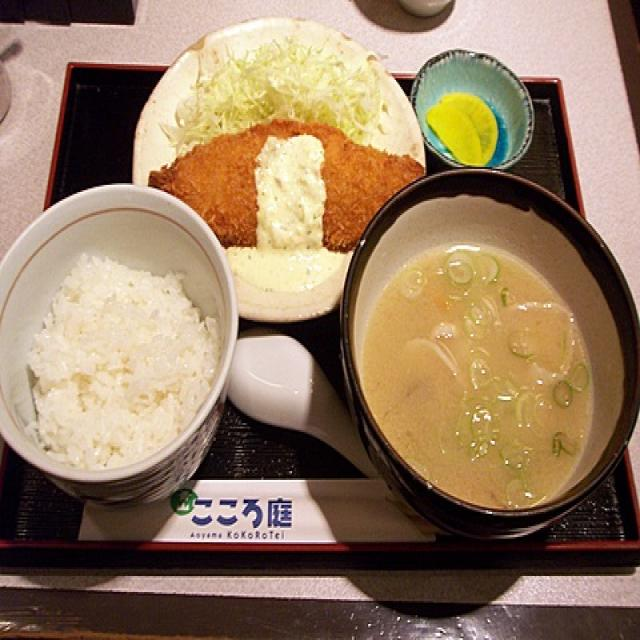炸货点心: (132, 80, 456, 261)
熟制海鲜: (132, 80, 456, 261)
